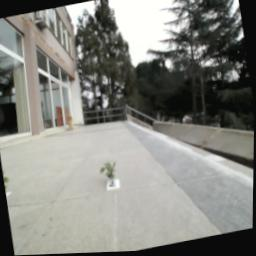herb: (99, 160, 123, 194)
